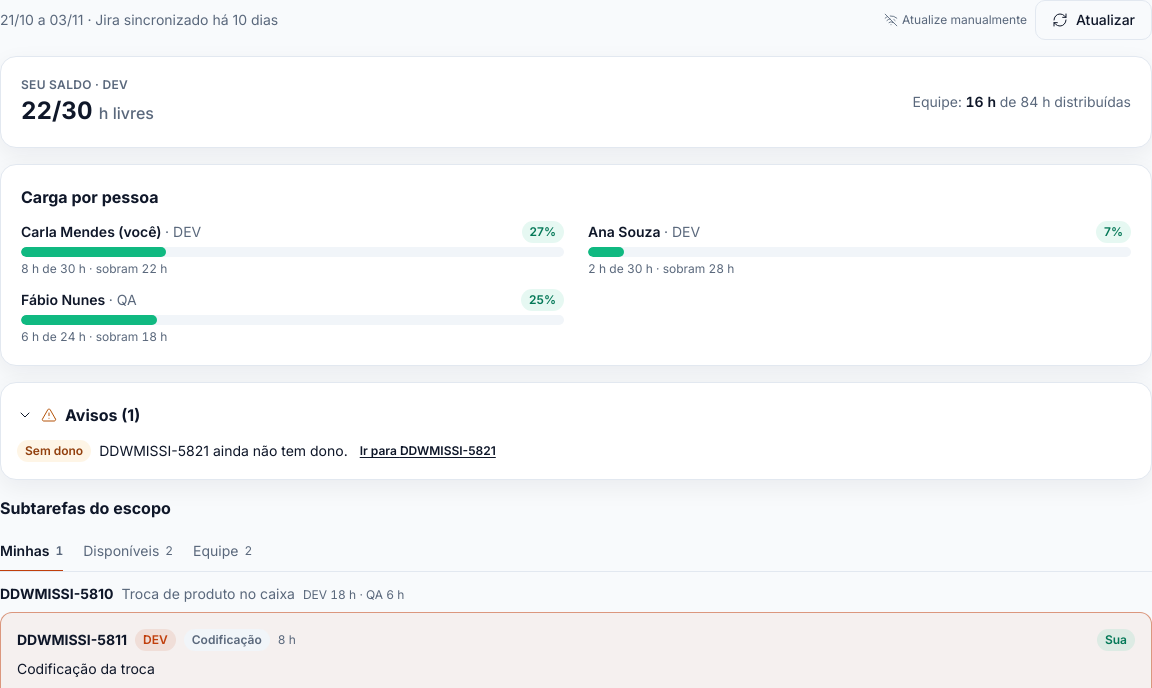
Test: Distribuição: celular › abas Minhas / Disponíveis / Equipe, começando pelas minhas
Check: the element with test id "saldo" is shown, box [21,95,154,127]
Step 1. Click the tab "Disponíveis 2" → (128, 552), box [83,532,173,572]
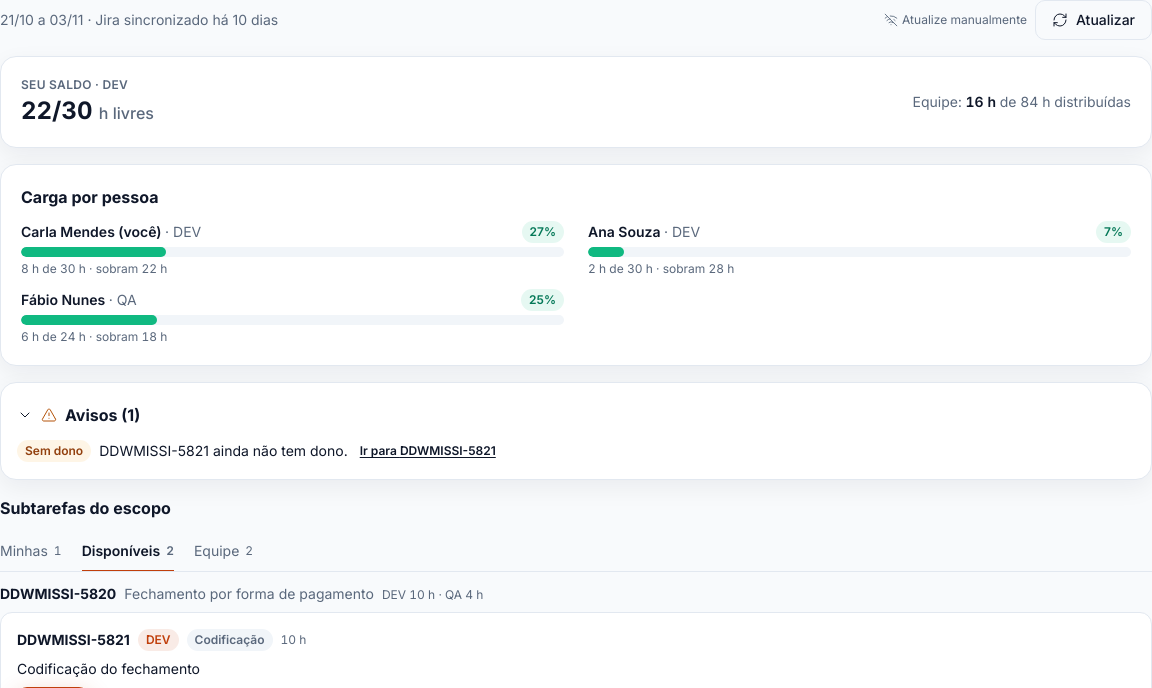
Step 2. Click the tab "Equipe 2" → (224, 552), box [194,532,253,572]
(page scrolled)
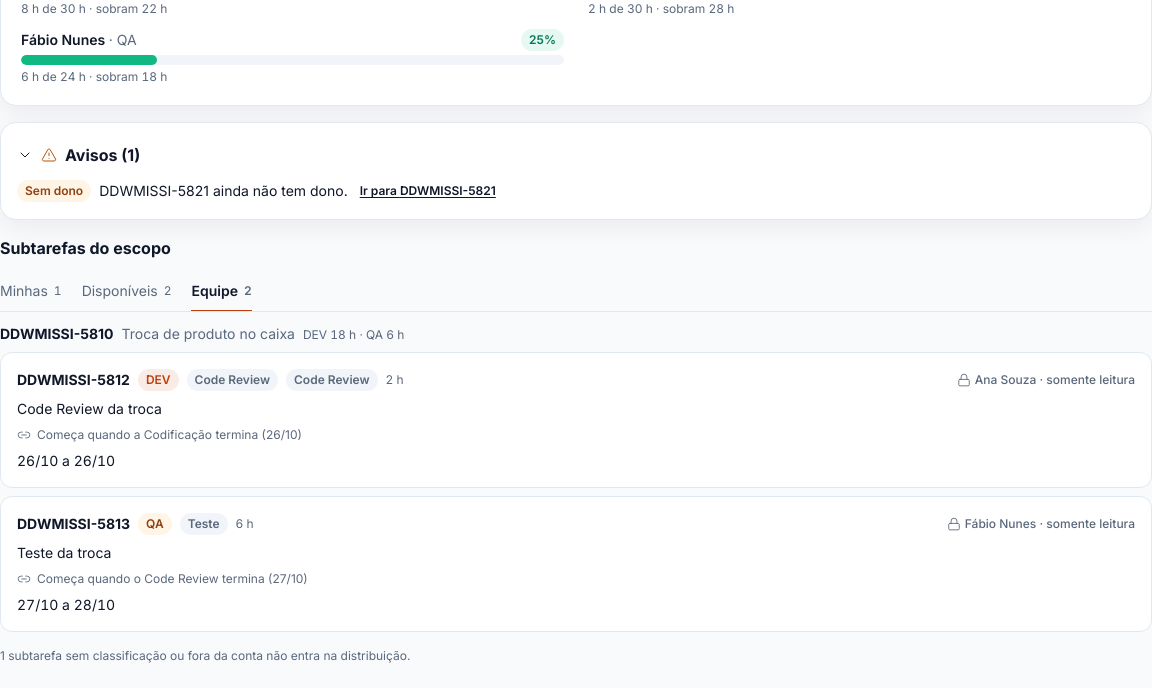
Check: the list item with test id "sub-DDWMISSI-5812" is shown, box [0,352,1151,488]
